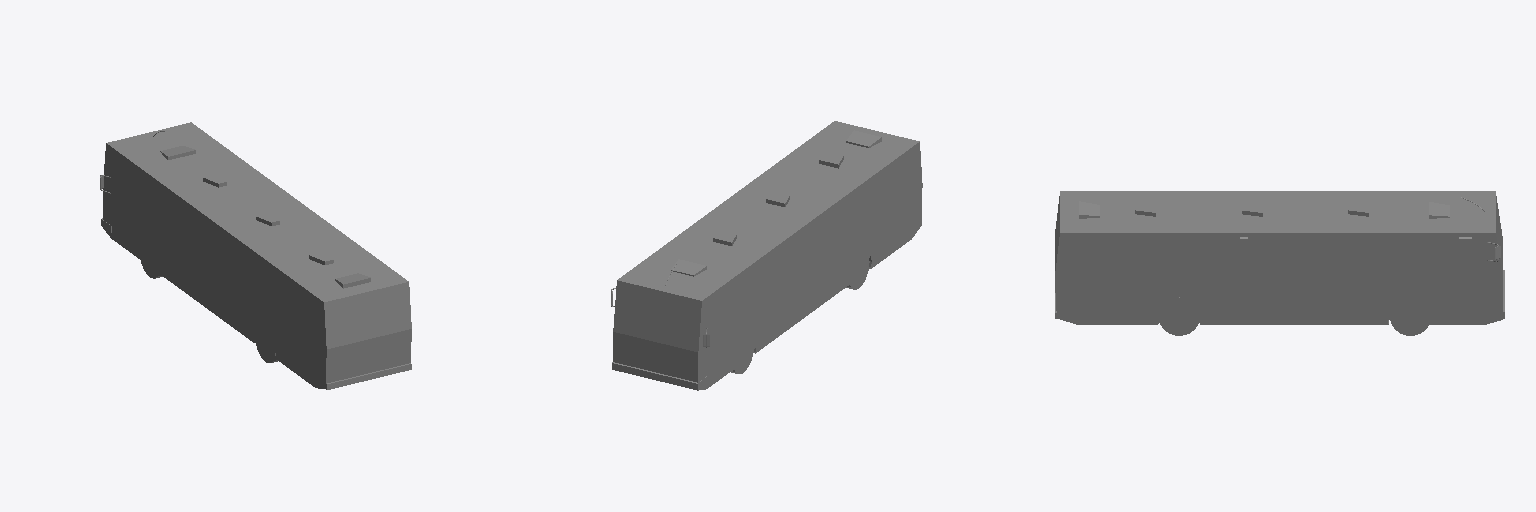
The model's file is karosac734.obj.
The picture shows the model from 3 angles: view 1: azimuth 30°, elevation 25°; view 2: azimuth 150°, elevation 25°; view 3: azimuth 270°, elevation 25°; orthographic projection.
Visible parts, largest first — view 1: Box009; view 2: Box009; view 3: Box009, Cylinder005.
Boxes of the visible parts, x1,y1,x2,y2 form: Box009: [100, 122, 411, 389]; Box009: [611, 121, 922, 390]; Box009: [1055, 191, 1504, 324]; Cylinder005: [1160, 297, 1198, 335].
Bounding box in the file's own units: 3.18 × 3.65 × 12.64.